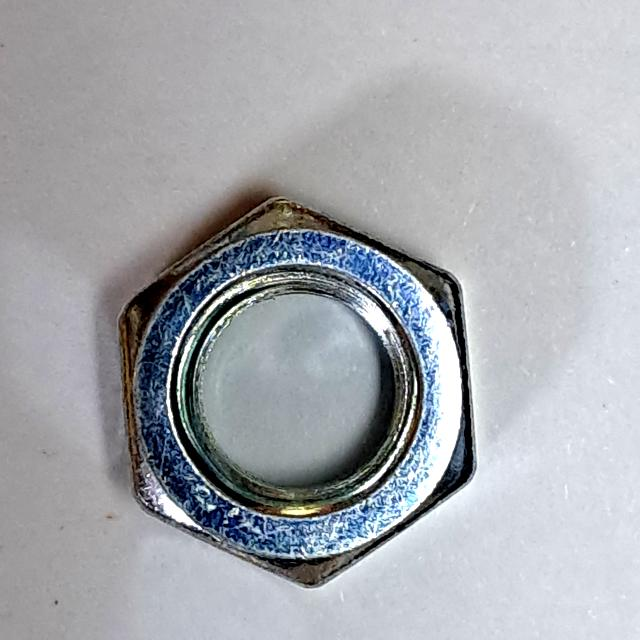Excellent: (100, 181, 488, 606)
